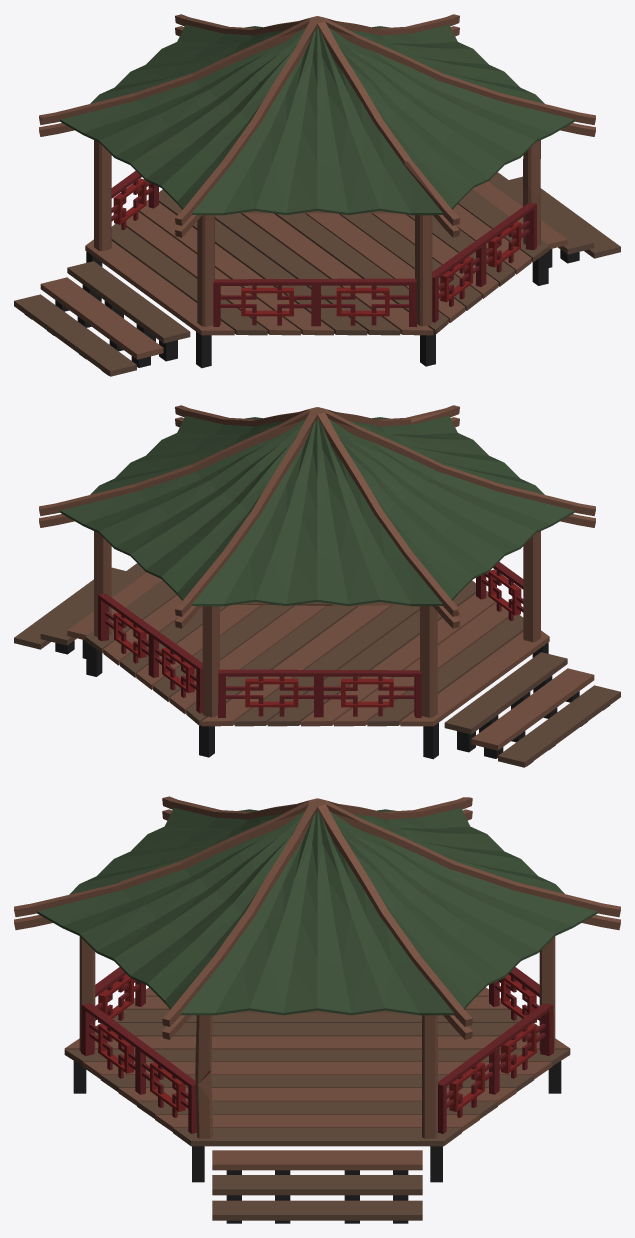
File: Altana_1 Asia.fbx
3 views of the same model, one above another, from view 1: azimuth 30°, elevation 25°; view 2: azimuth 150°, elevation 25°; view 3: azimuth 270°, elevation 25° (orthographic). The views are drawn at different scales.
Parts seen in each view (by area): view 1: Altana_1; view 2: Altana_1; view 3: Altana_1.
Part boxes in pixels (bbox=[...]): Altana_1: bbox=[14, 14, 620, 376]; Altana_1: bbox=[14, 405, 620, 767]; Altana_1: bbox=[14, 796, 620, 1223].
Size of the model in its own units: 9.73 by 4.81 by 9.19.
